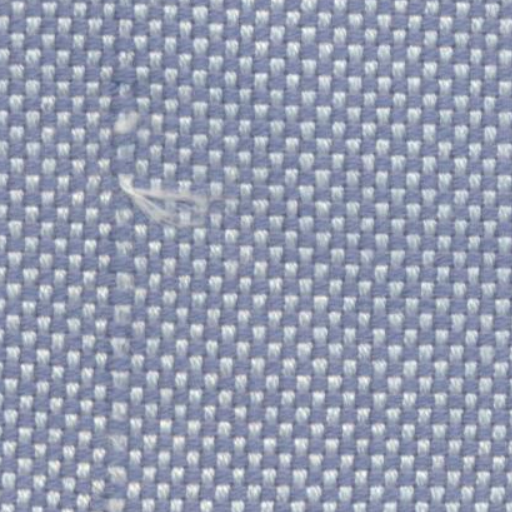DuanSha: (104, 154, 221, 242)
